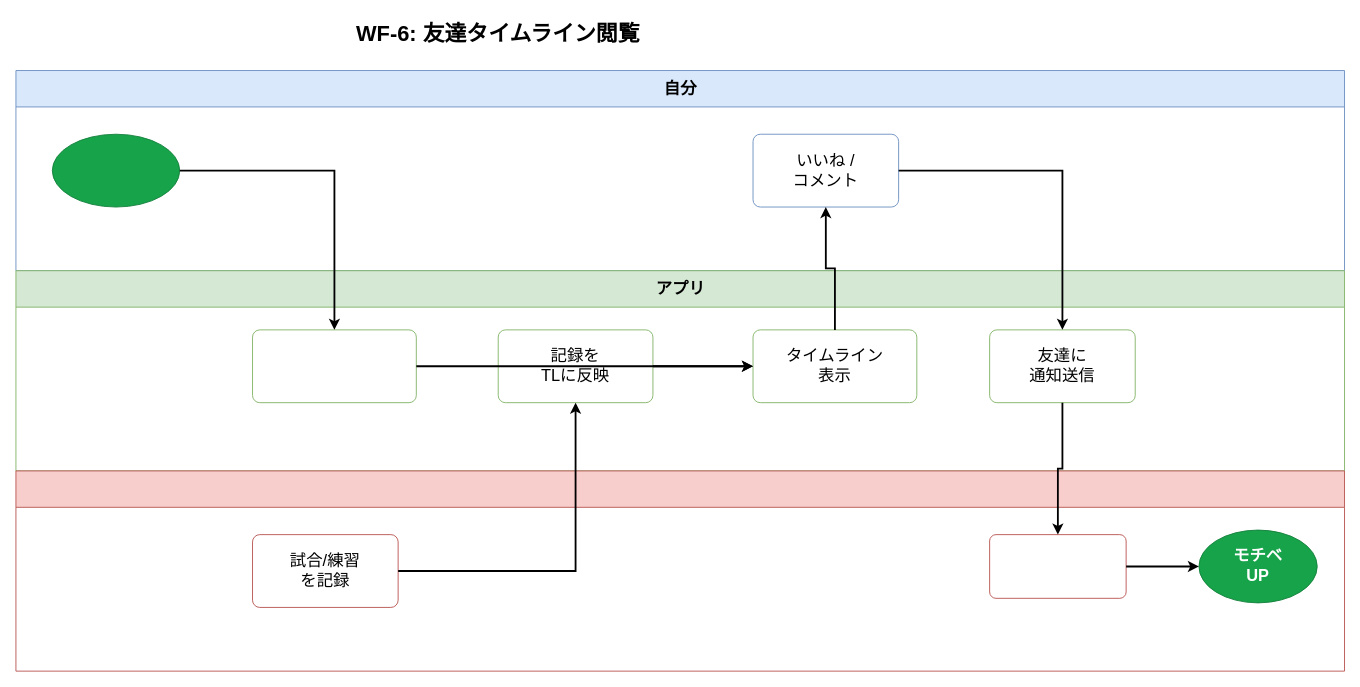
Some shapes in this 1360 by 687 pixel diagram are drawn without their labels. Here are the shapes that lost their labels. From the top down, the box of each, then its label:
(51, 133, 180, 207): フレンド タブ選択
(252, 329, 416, 403): タイムライン データ取得
(15, 470, 1345, 671): 友達
(989, 534, 1126, 598): 通知受信
